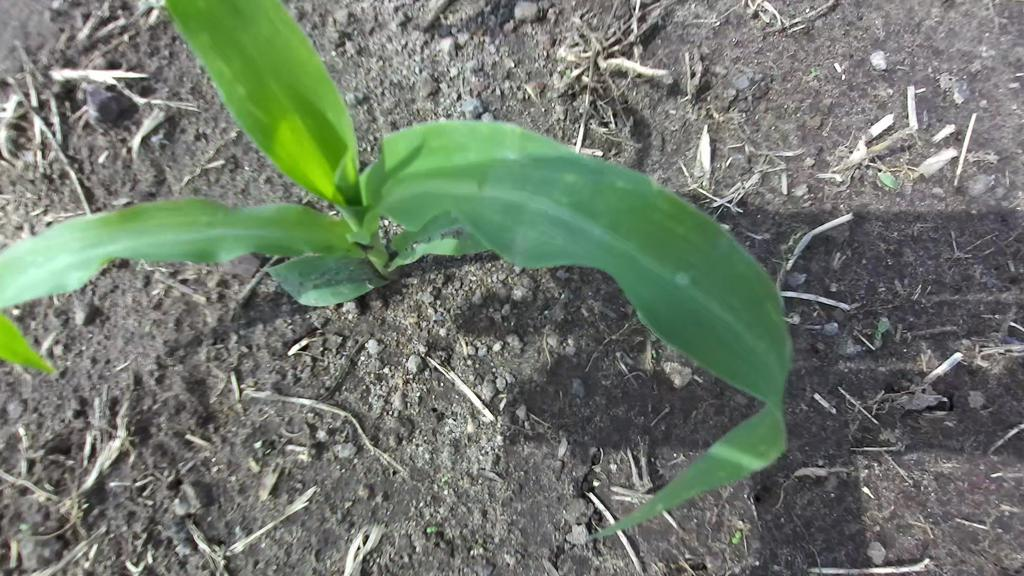BroWeed: (875, 166, 901, 195), (874, 314, 895, 342), (872, 175, 891, 195), (125, 559, 146, 576), (730, 528, 743, 546), (804, 65, 819, 80), (425, 524, 439, 535), (18, 522, 30, 531)
